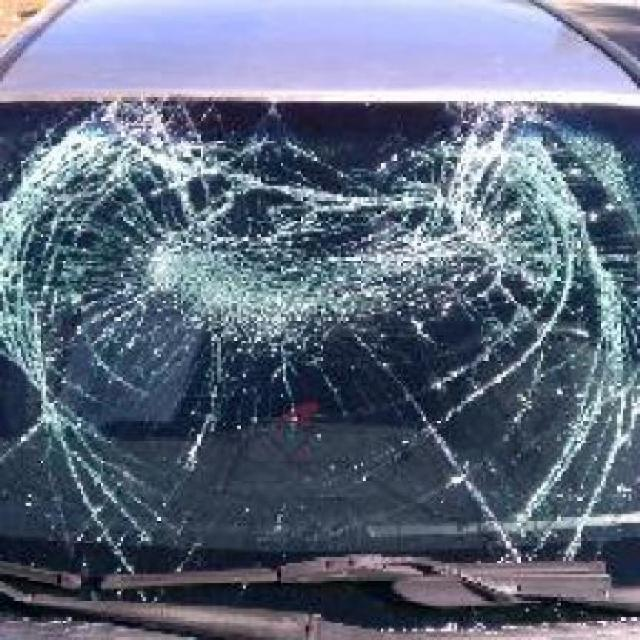damaged-windscreen: (0, 91, 637, 608)
